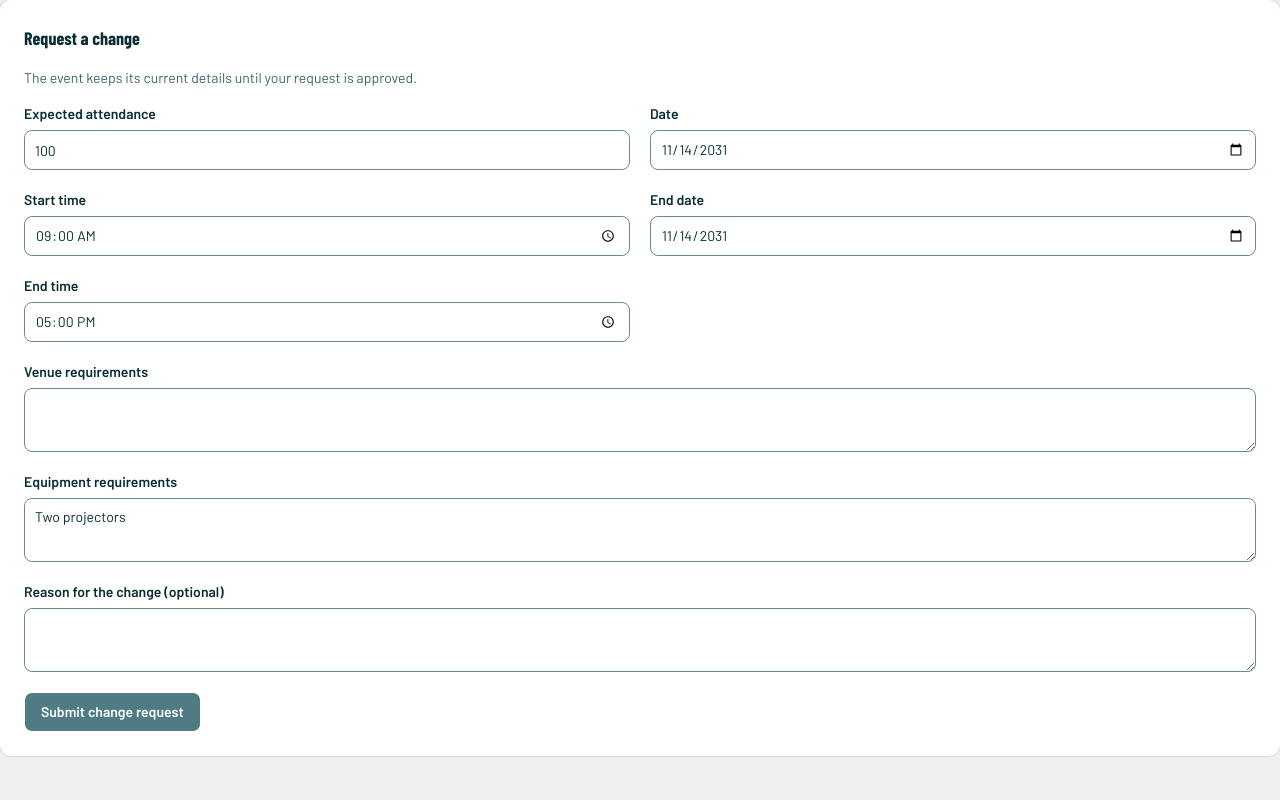
SCRUM-66/AC5 expected attendance must be a positive whole number › refuses 0 without submitting
The image size is (1280, 800).
Replace the text in the field labelled "Expected attendance" with "0" at x=327, y=150, box [24, 130, 630, 170]
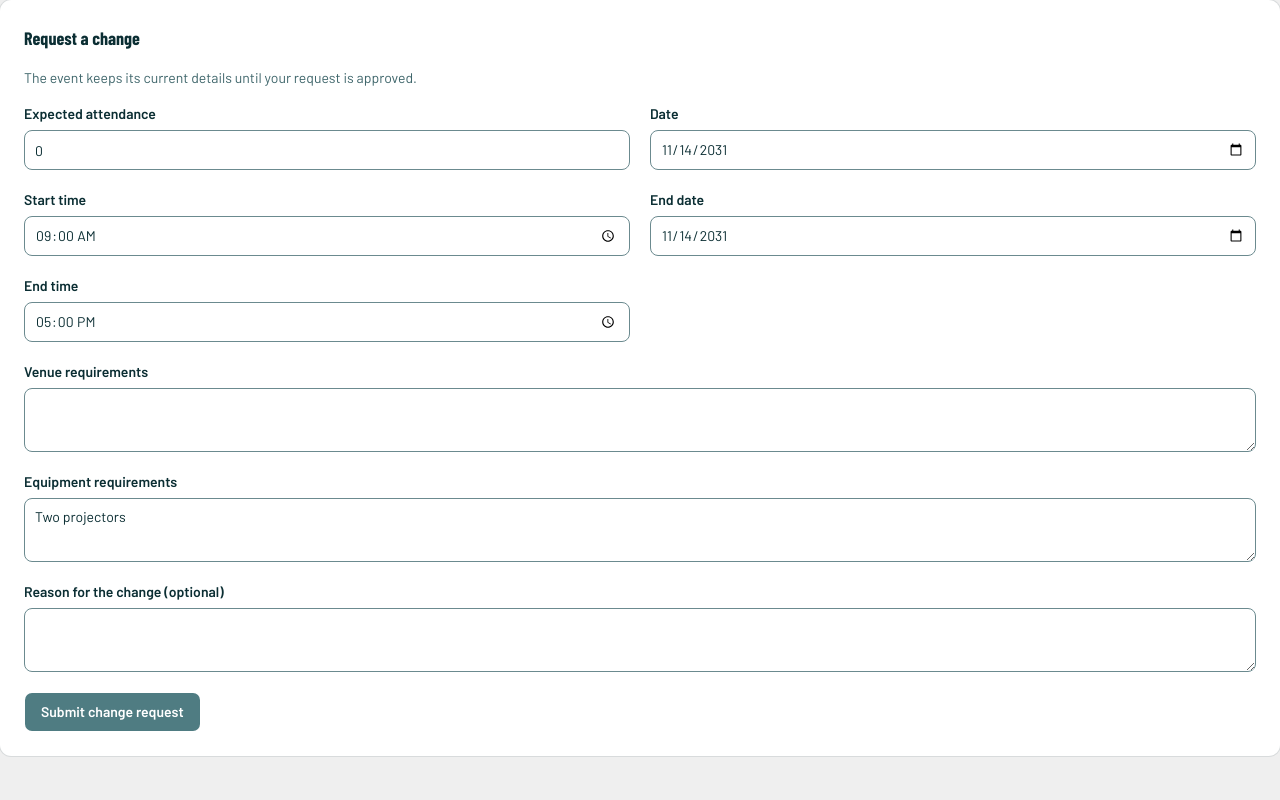
Click the button "Submit change request" at x=112, y=712, box [24, 692, 201, 732]
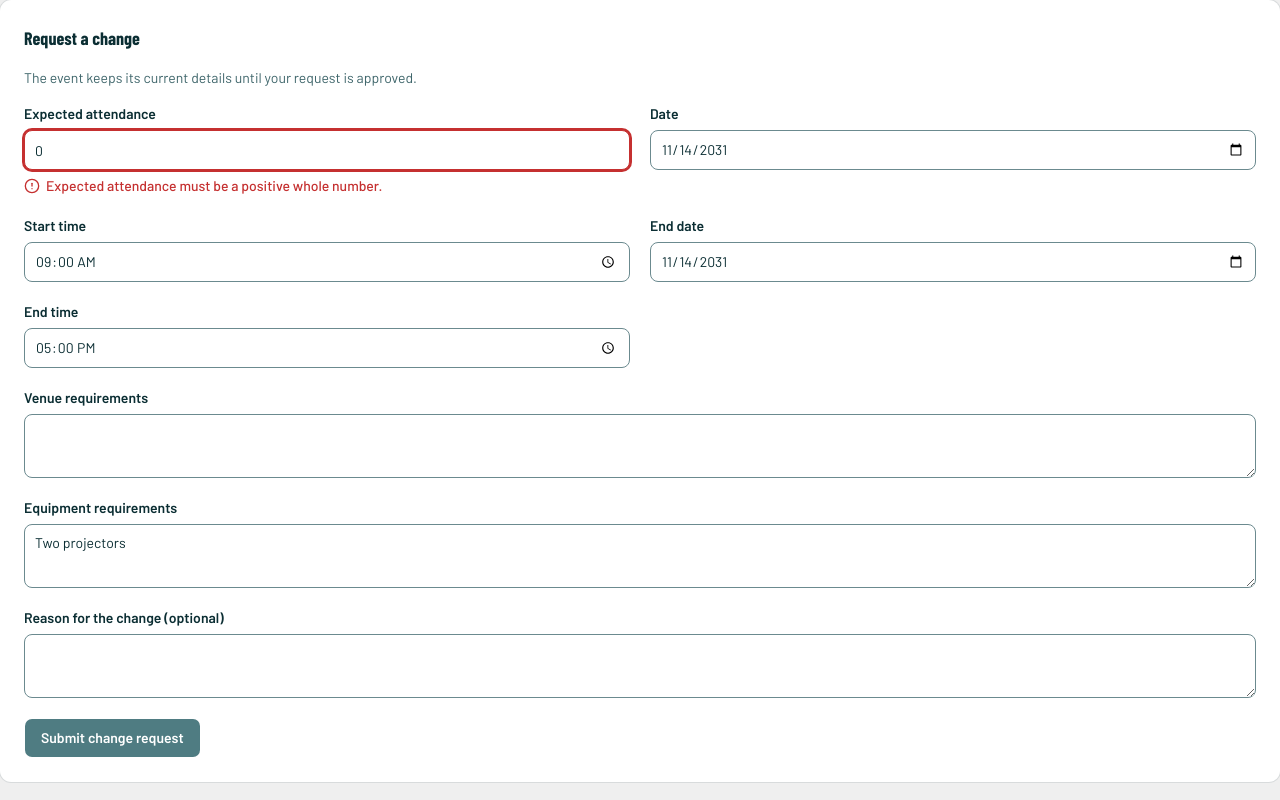
expect the text "Expected attendance must be a positive whole number." is shown: met, box [24, 177, 382, 194]
